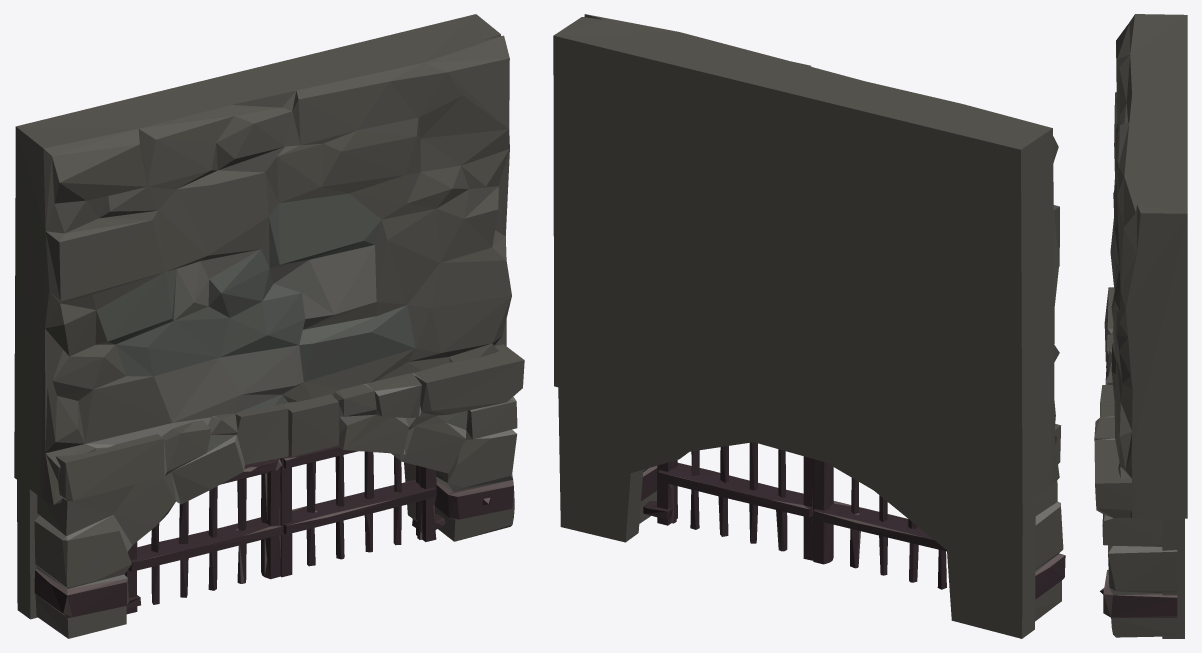
File: MDungeons_Walls_ArchGrill_Low.FBX
3 views of the same model, side by side, from view 1: azimuth 30°, elevation 25°; view 2: azimuth 150°, elevation 25°; view 3: azimuth 270°, elevation 25° (orthographic). The views are drawn at different scales.
Visible parts, largest first — view 1: MDungeons_Walls_ArchGrill_Low_LOD0; view 2: MDungeons_Walls_ArchGrill_Low_LOD0; view 3: MDungeons_Walls_ArchGrill_Low_LOD0.
Part boxes in pixels (left/top/right/bottom): MDungeons_Walls_ArchGrill_Low_LOD0: left=14, top=14, right=524, bottom=638; MDungeons_Walls_ArchGrill_Low_LOD0: left=553, top=14, right=1065, bottom=638; MDungeons_Walls_ArchGrill_Low_LOD0: left=1094, top=14, right=1187, bottom=638.
Size of what is drawn, in the model's own units: 6.04 by 6.03 by 1.19.
